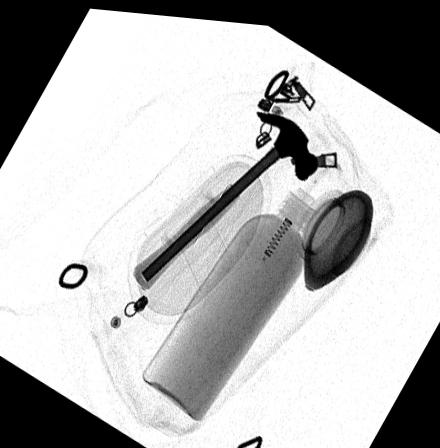Hammer: (130, 105, 318, 288)
